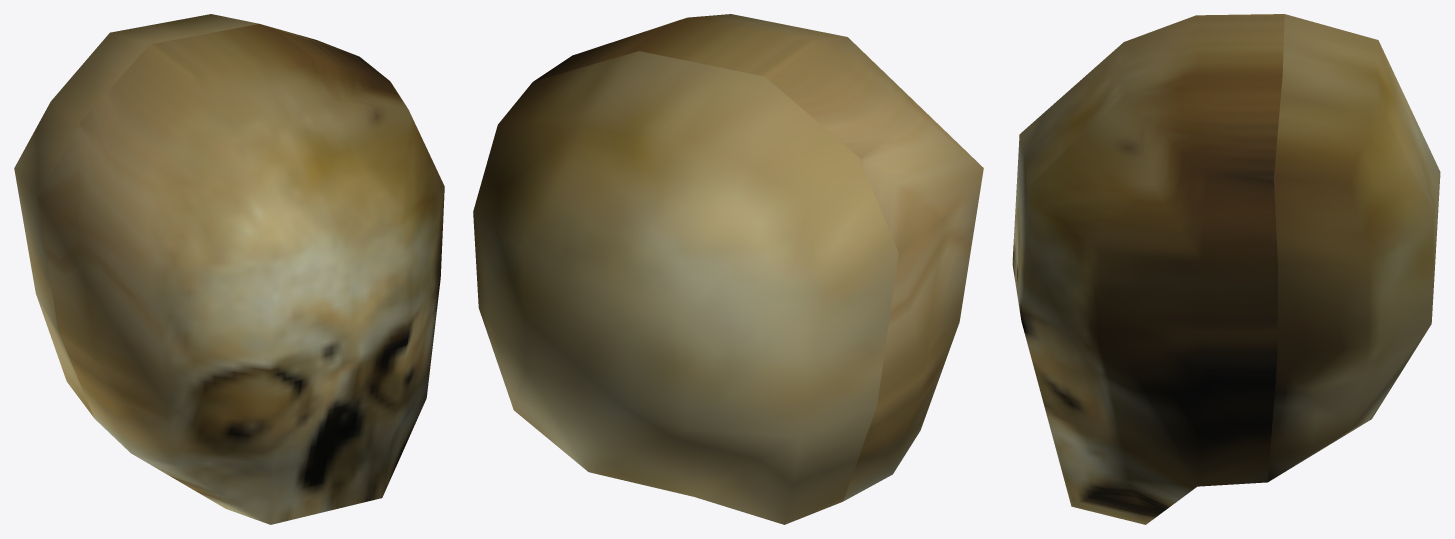
Rendered from human_skull.FBX.
3 renders of one model, left to right at view 1: azimuth 30°, elevation 25°; view 2: azimuth 150°, elevation 25°; view 3: azimuth 270°, elevation 25°, orthographic. The views are drawn at different scales.
Parts seen in each view (by area): view 1: human_skull; view 2: human_skull; view 3: human_skull.
Part boxes in pixels (x1,y1,x2,y2): human_skull: (14, 14, 444, 524); human_skull: (473, 14, 983, 524); human_skull: (1012, 14, 1440, 524).
Bounding box in the file's own units: 13.47 × 16.28 × 14.17.
